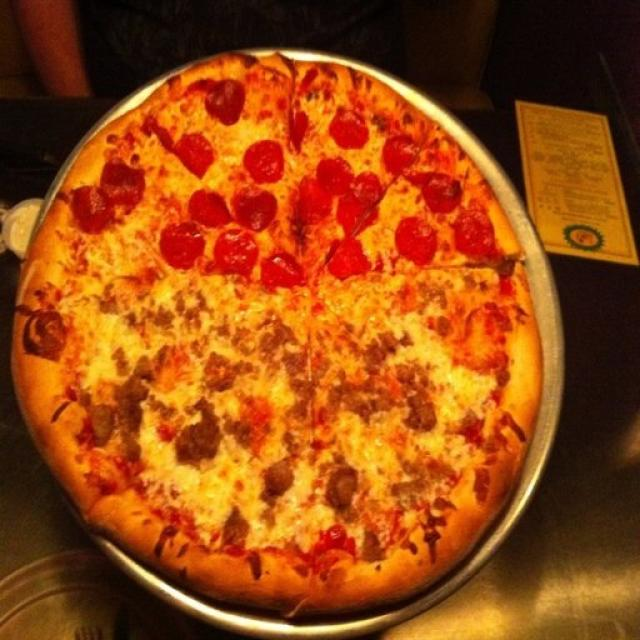Pepperoni: (70, 166, 143, 234), (396, 218, 435, 266), (452, 210, 490, 259), (165, 222, 204, 269), (216, 230, 257, 273), (339, 198, 380, 240), (174, 132, 212, 176), (204, 80, 240, 125), (327, 242, 373, 277), (235, 191, 277, 229), (329, 111, 368, 150), (245, 139, 280, 180), (294, 179, 327, 222), (424, 176, 458, 214), (193, 188, 227, 224), (317, 159, 353, 193), (383, 136, 413, 174), (264, 254, 300, 285), (356, 170, 380, 200), (288, 112, 306, 150)
Pizza: (16, 54, 540, 620)
